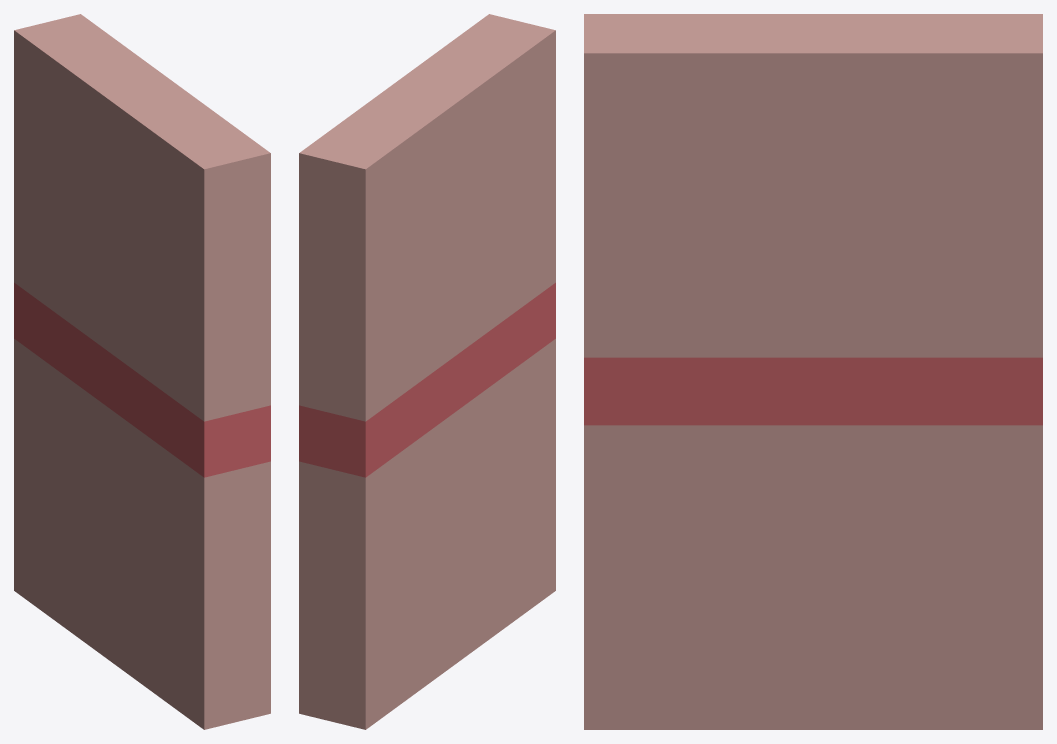
The model's file is wall.fbx.
3 views of the same model, side by side, from view 1: azimuth 30°, elevation 25°; view 2: azimuth 150°, elevation 25°; view 3: azimuth 270°, elevation 25° (orthographic). The views are drawn at different scales.
Parts seen in each view (by area): view 1: Cube; view 2: Cube; view 3: Cube.
Part boxes in pixels (x1,y1,x2,y2): Cube: (14,14,270,729); Cube: (299,14,555,729); Cube: (584,14,1042,729).
Size of the model in its own units: 70.15 by 564 by 347.
